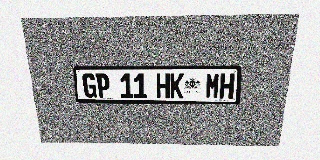1: (119, 73, 133, 98), (133, 73, 147, 98)
G: (82, 73, 97, 98)
H: (219, 73, 235, 99), (156, 73, 170, 98)
K: (170, 73, 184, 99)
M: (205, 73, 220, 99)
P: (95, 73, 110, 98)
